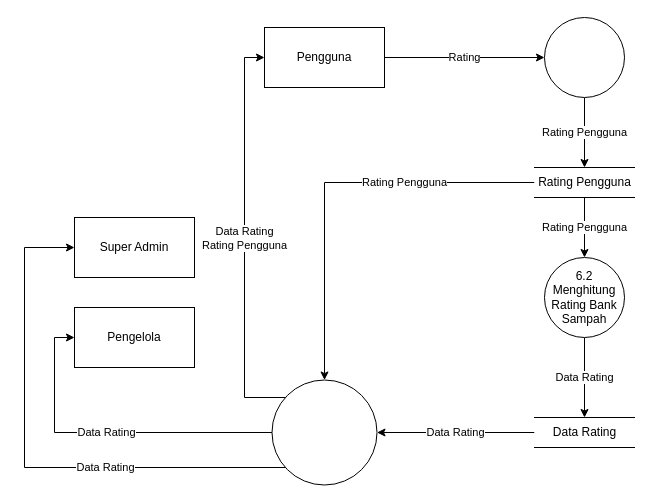
Some shapes in this 652 by 503 pixel diagram are drawn without their labels. The shapes that lost their labels are listed below. From the top down, each one's centre as x and y in pixels, then its label:
(x=584, y=57): 6.1 Input Rating
(x=324, y=432): 6.3 Menampilkan Rating Pegguna dan Data Rating
